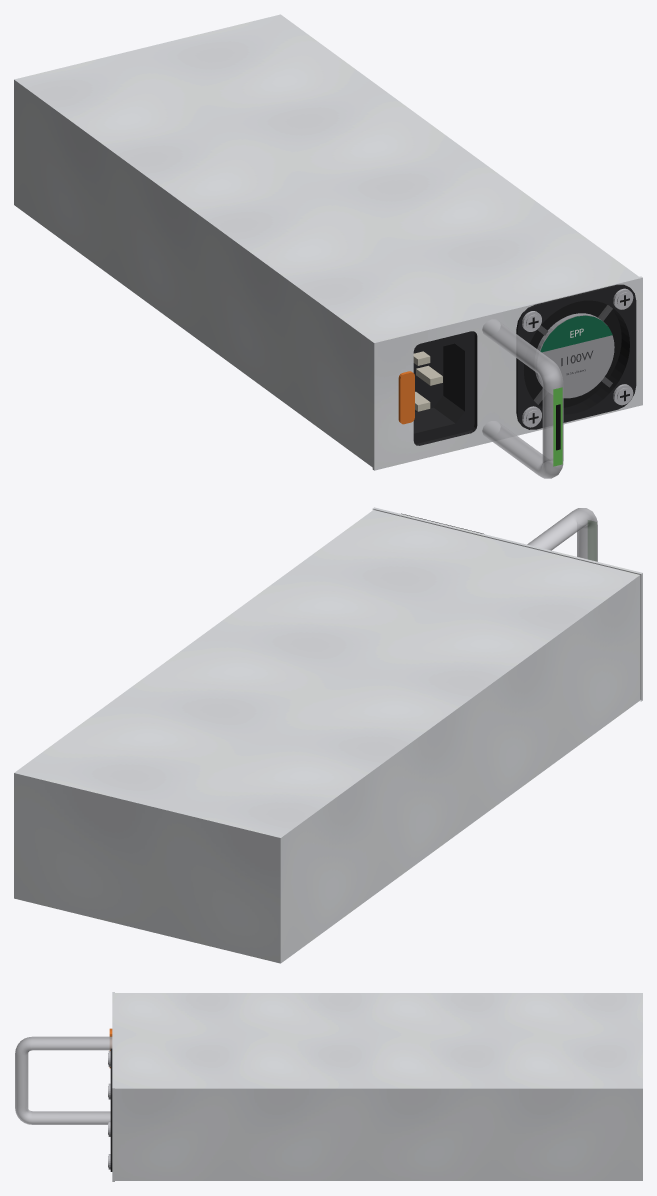
File: DELL-PSU-14G-86MM-1100W.glb
The picture shows the model from 3 angles, top to bottom: view 1: azimuth 30°, elevation 25°; view 2: azimuth 150°, elevation 25°; view 3: azimuth 270°, elevation 25°; orthographic projection. The views are drawn at different scales.
Visible parts, largest first — view 1: PSU, PSU_Handle; view 2: PSU, PSU_Handle; view 3: PSU, PSU_Handle.
Part boxes in pixels (x1,y1,x2,y2): PSU: [14, 14, 642, 470]; PSU_Handle: [482, 319, 563, 478]; PSU: [14, 507, 642, 963]; PSU_Handle: [527, 508, 597, 561]; PSU: [108, 992, 642, 1181]; PSU_Handle: [15, 1036, 112, 1124].
Bounding box in the file's own units: 0.086 × 0.039 × 0.2374.
14 materials, 1 textured.
